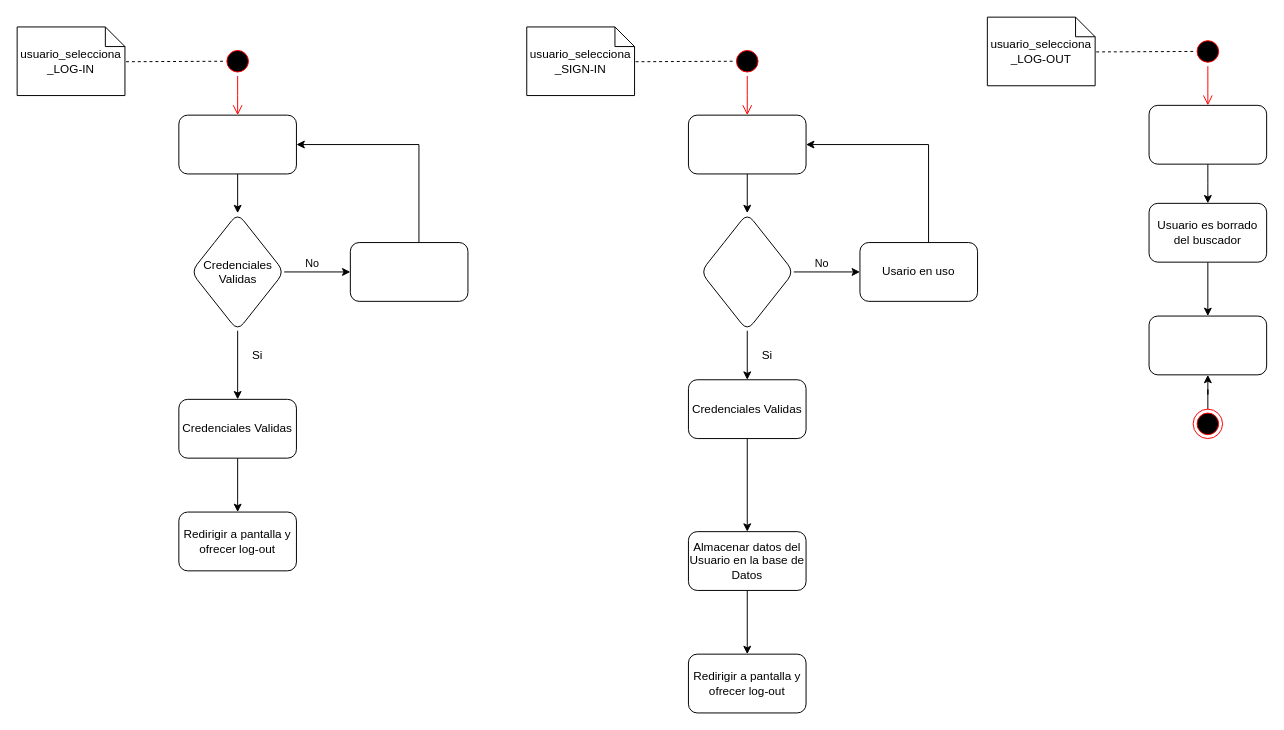
The diagram is 1284 pixels wide and 730 high, and some of its shapes have lost their labels. Here are the shapes that lost their labels. From the top down, the centre of each, then its label:
At (237,144): "usuario entra sus credenciales, nombre y contraseña".
At (746,144): "usuario entra datos para crearlo".
At (1207,134): "usuario selecciona la opción".
At (408,271): "Credenciales Invalidas".
At (747,271): "Credenciales Validas y no son en uso".
At (1207,345): "Redirigir a pantalla de inicio y mostrar log-in y sign-in".
